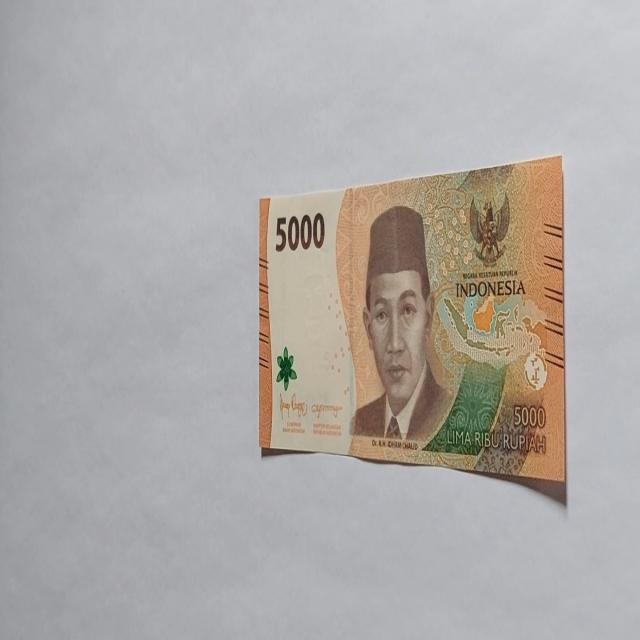lima ribu rupiah: (258, 154, 566, 502), (350, 204, 454, 446)
